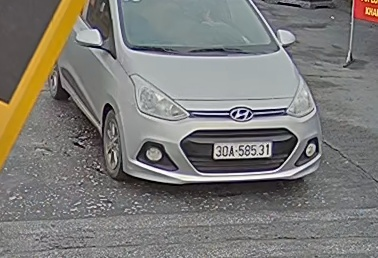vehicle plate: (210, 140, 276, 159)
